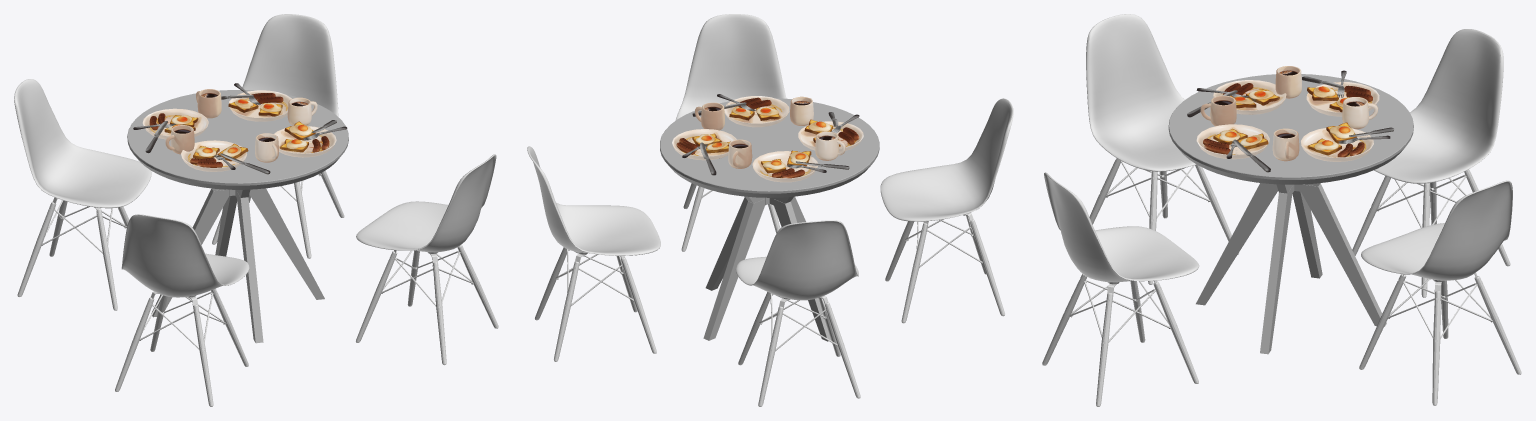
Rendered from EG_Frühstücksecke.gltf.
The picture shows the model from 3 angles, left to right: view 1: azimuth 30°, elevation 25°; view 2: azimuth 150°, elevation 25°; view 3: azimuth 270°, elevation 25°; orthographic projection. The views are drawn at different scales.
Parts seen in each view (by area): view 1: round_table_low.001, 3d-model.004, 3d-model.006, 3d-model.005, 3d-model.007, Object_3.007, Object_3.004, Object_3.005, Object_3.006, Object_5.006, Object_4.005, Object_5.005 (+4 smaller); view 2: round_table_low.001, 3d-model.006, 3d-model.004, 3d-model.005, 3d-model.007, Object_3.005, Object_3.007, Object_3.004, Object_3.006, Object_5.007, Object_4.007, Object_5.005 (+3 smaller); view 3: round_table_low.001, 3d-model.006, 3d-model.004, 3d-model.007, 3d-model.005, Object_3.004, Object_3.005, Object_3.006, Object_3.007, Object_4.004, Object_5.004, Object_5.005 (+5 smaller).
Part boxes in pixels (box(x1,y1,x2,y2)): round_table_low.001: box(127, 90, 348, 343); 3d-model.004: box(14, 79, 151, 310); 3d-model.006: box(115, 214, 249, 406); 3d-model.005: box(356, 154, 498, 365); 3d-model.007: box(212, 14, 344, 258); Object_3.007: box(142, 108, 208, 154); Object_3.004: box(196, 89, 291, 121); Object_3.005: box(274, 97, 336, 157); Object_3.006: box(181, 133, 278, 171); Object_5.006: box(190, 145, 241, 167); Object_4.005: box(280, 120, 347, 152); Object_5.005: box(286, 124, 329, 152); round_table_low.001: box(660, 98, 879, 341); 3d-model.006: box(880, 98, 1013, 323); 3d-model.004: box(735, 220, 860, 406); 3d-model.005: box(675, 14, 786, 251); 3d-model.007: box(527, 146, 660, 361); Object_3.005: box(695, 96, 789, 130); Object_3.007: box(752, 131, 845, 182); Object_3.004: box(672, 129, 752, 168); Object_3.006: box(790, 96, 863, 151); Object_5.007: box(762, 151, 808, 178); Object_4.007: box(761, 150, 849, 173); Object_5.005: box(732, 97, 778, 116); round_table_low.001: box(1168, 74, 1413, 354); 3d-model.006: box(1086, 14, 1238, 284); 3d-model.004: box(1352, 29, 1510, 297); 3d-model.007: box(1359, 180, 1521, 405); 3d-model.005: box(1042, 172, 1199, 406); Object_3.004: box(1301, 97, 1378, 161); Object_3.005: box(1196, 124, 1299, 161); Object_3.006: box(1200, 80, 1286, 126); Object_3.007: box(1275, 66, 1379, 116); Object_4.004: box(1307, 122, 1394, 155); Object_5.004: box(1314, 125, 1364, 157); Object_5.005: box(1203, 130, 1262, 154).
Bounding box in the file's own units: 1.66 × 0.8613 × 1.76.
Materials: 8 (3 with a texture image).
